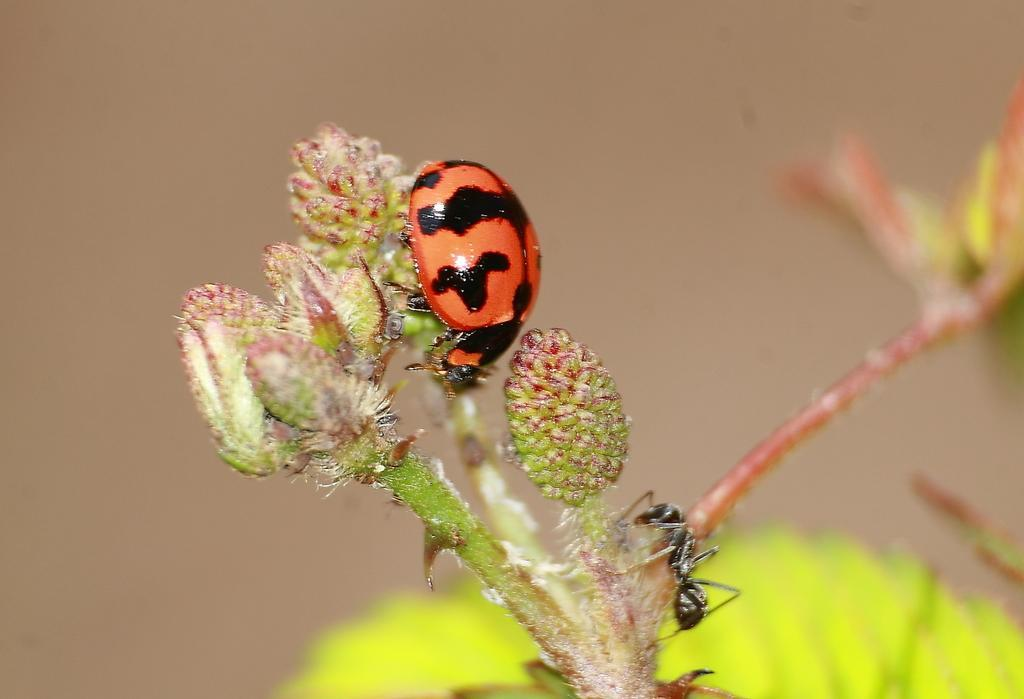ladybug: (393, 157, 545, 399)
